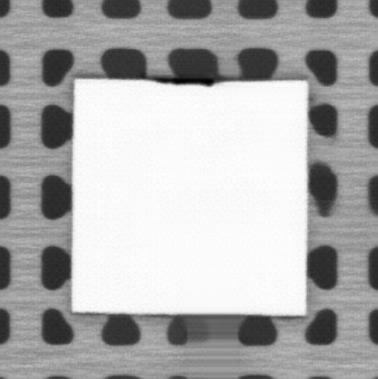DIE_BROKEN: (150, 76, 216, 88)
